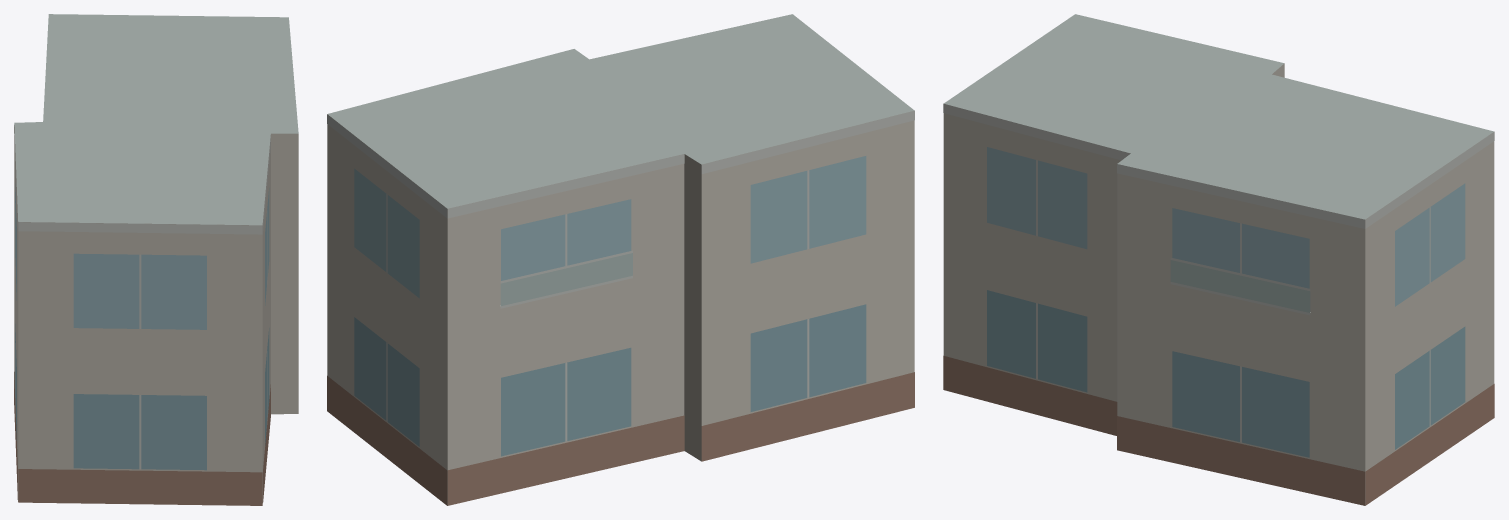
File: survey-upis-32988298.glb
The picture shows the model from 3 angles, left to right: view 1: azimuth 30°, elevation 25°; view 2: azimuth 150°, elevation 25°; view 3: azimuth 270°, elevation 25°; orthographic projection. The views are drawn at different scales.
Parts seen in each view (by area): view 1: survey-upis-32988298.tmp; view 2: survey-upis-32988298.tmp; view 3: survey-upis-32988298.tmp.
Part boxes in pixels (left/top/right/bottom): survey-upis-32988298.tmp: left=14, top=14, right=298, bottom=505; survey-upis-32988298.tmp: left=327, top=14, right=914, bottom=505; survey-upis-32988298.tmp: left=943, top=14, right=1494, bottom=505.
Size of the model in its own units: 11.41 by 7.4 by 12.92.
